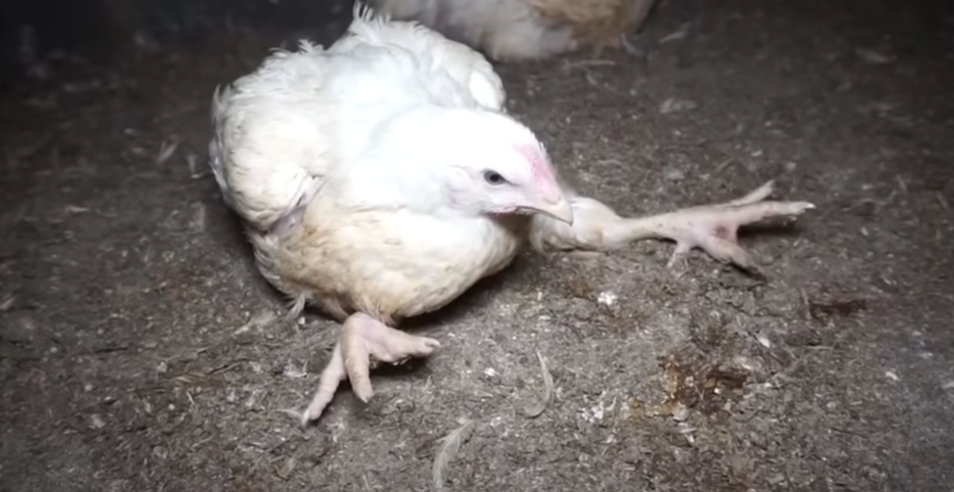Unhealthy: (204, 20, 815, 421)
